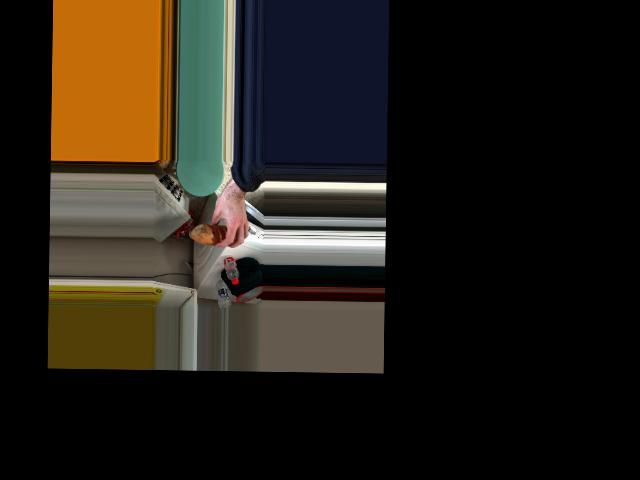sweet_potato: (197, 224, 229, 245)
